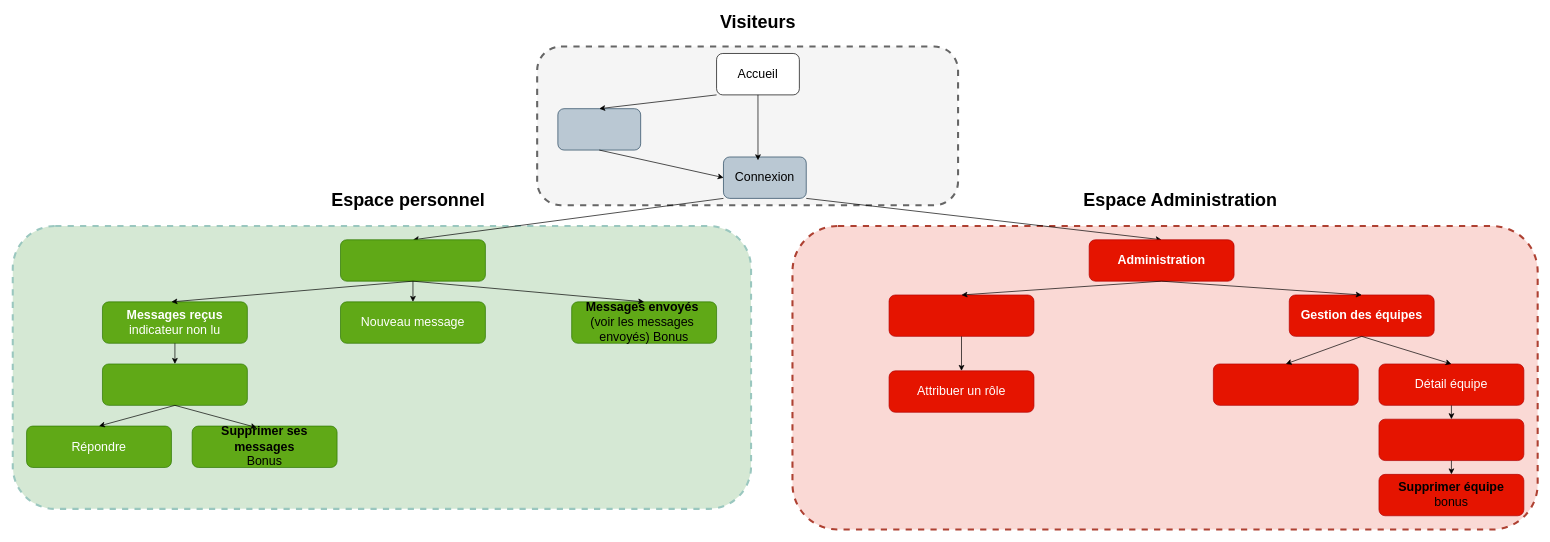
The diagram is 1550 pixels wide and 542 high, and some of its shapes have lost their labels. The shapes that lost their labels are listed below. From the top down, each one's centre as x and y in pixels, then its label:
(x=599, y=129): Inscription
(x=412, y=260): Accès aux messages
(x=961, y=315): Gestion des utilisateurs
(x=174, y=384): Détail du message
(x=1285, y=384): Créer équipe
(x=1451, y=439): Modifier tuteurs bonus
